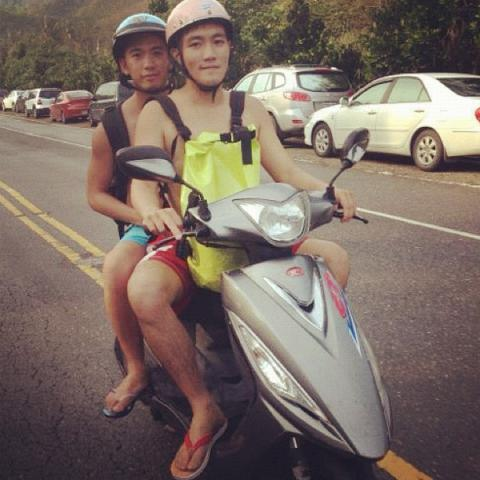car: (302, 70, 479, 168), (230, 68, 350, 138), (86, 80, 135, 126), (48, 89, 93, 125), (25, 90, 62, 118), (1, 89, 29, 114)
motorcycle: (186, 124, 394, 462)
